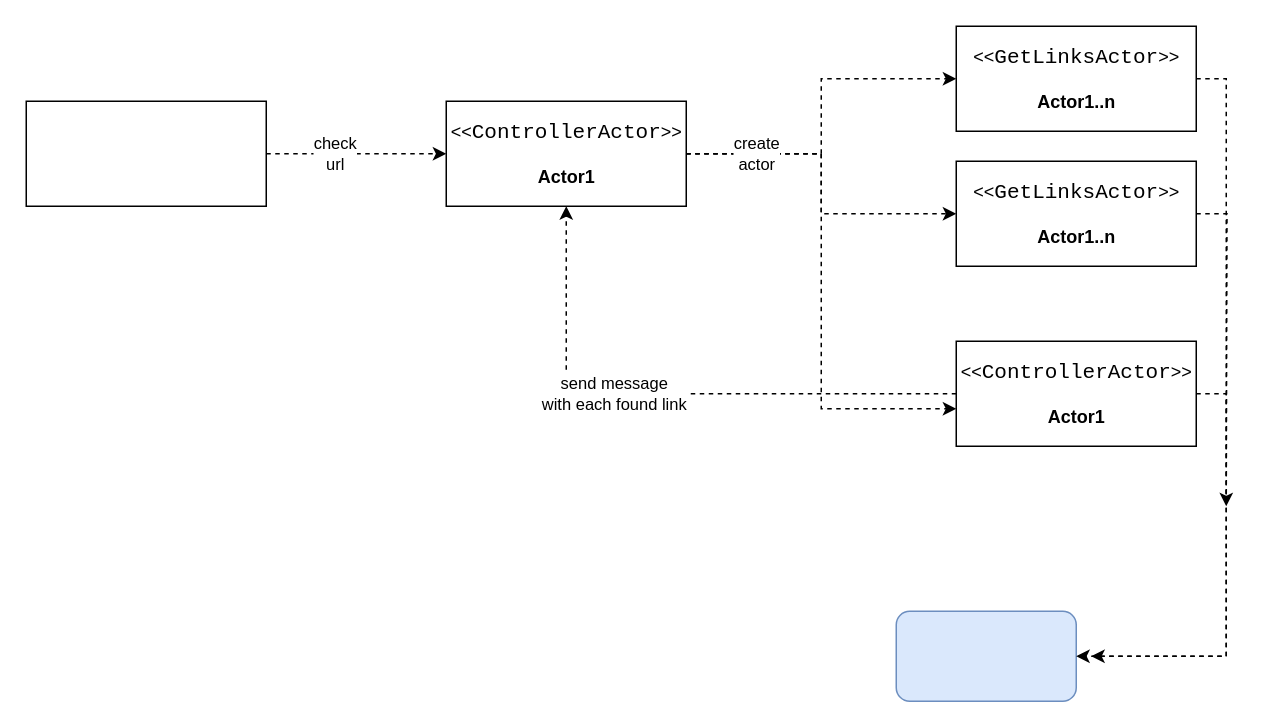
The diagram is 1266 pixels wide and 728 high, and some of its shapes have lost their labels. Each missing label, with the box of its shape:
<<MainActor>> Actor1: (25, 100, 266, 206)
AsyncWebClient: (895, 610, 1076, 701)
